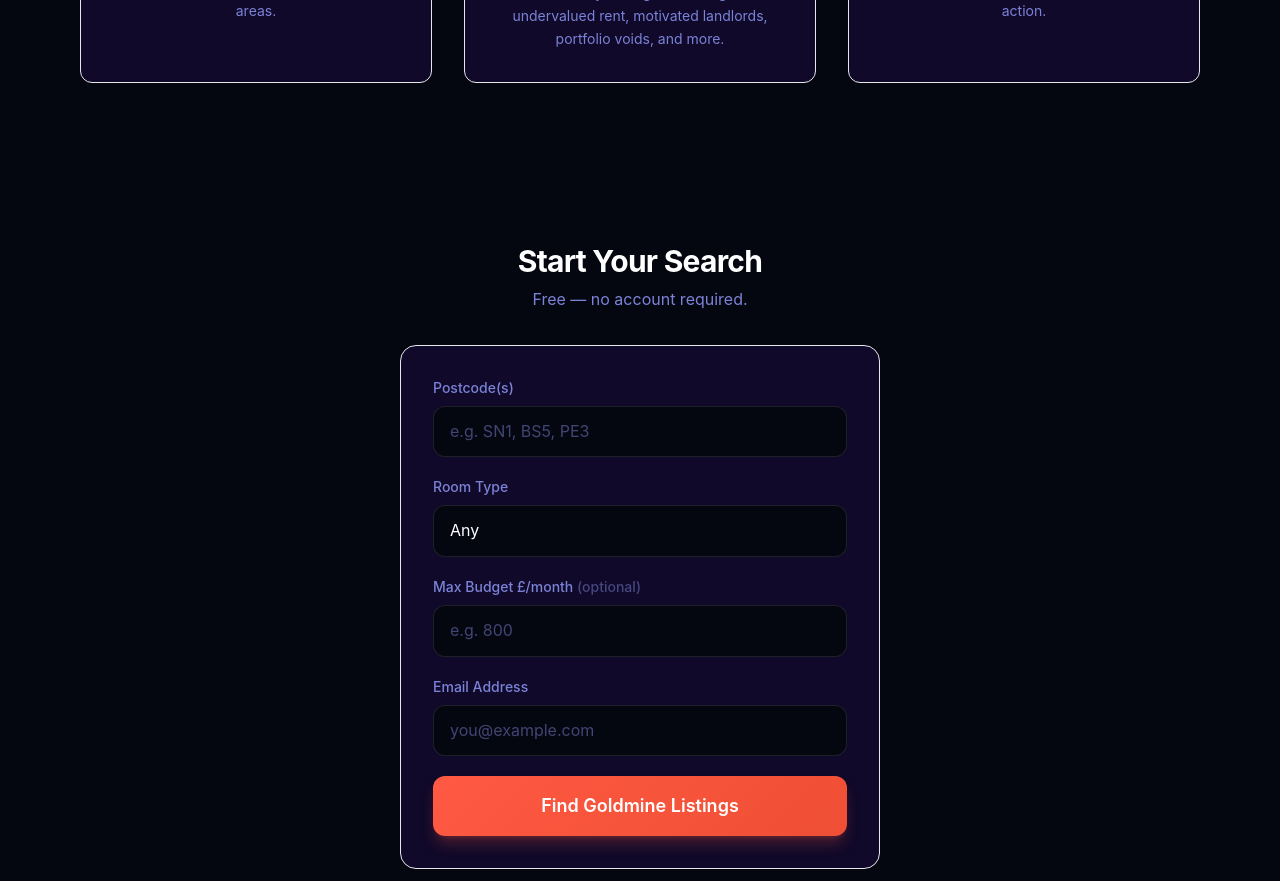
Test: GoldmineFinder — Section B: Form Validation Errors › shows inline error when email is invalid format
The width and height of the screenshot is (1280, 881).
(page scrolled)
In the field with placeholder "e.g. SN1, BS5, PE3": (640, 432) x1=433 y1=406 x2=847 y2=457, type "SN1"
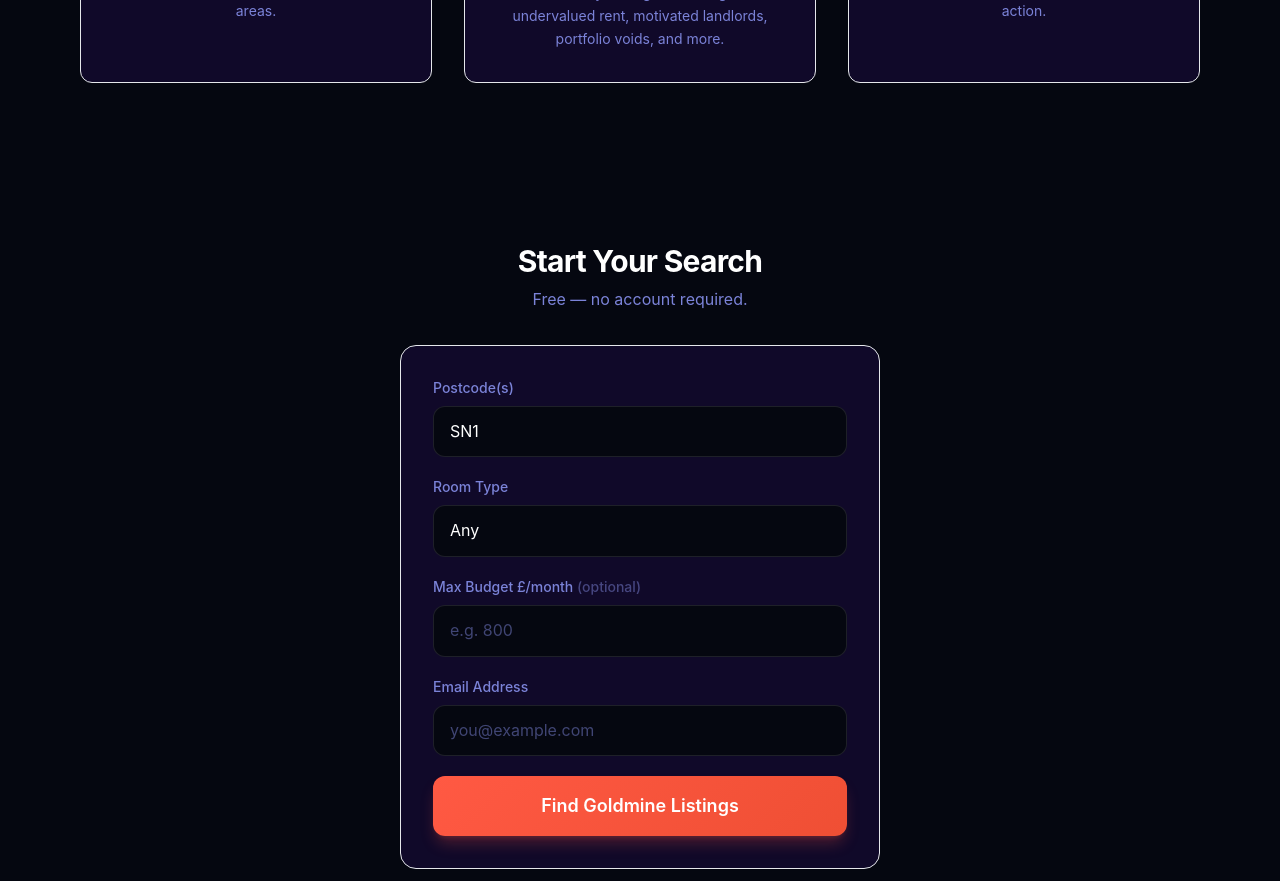
In the field with placeholder "you@example.com": (640, 730) x1=433 y1=705 x2=847 y2=756, type "not-an-email"
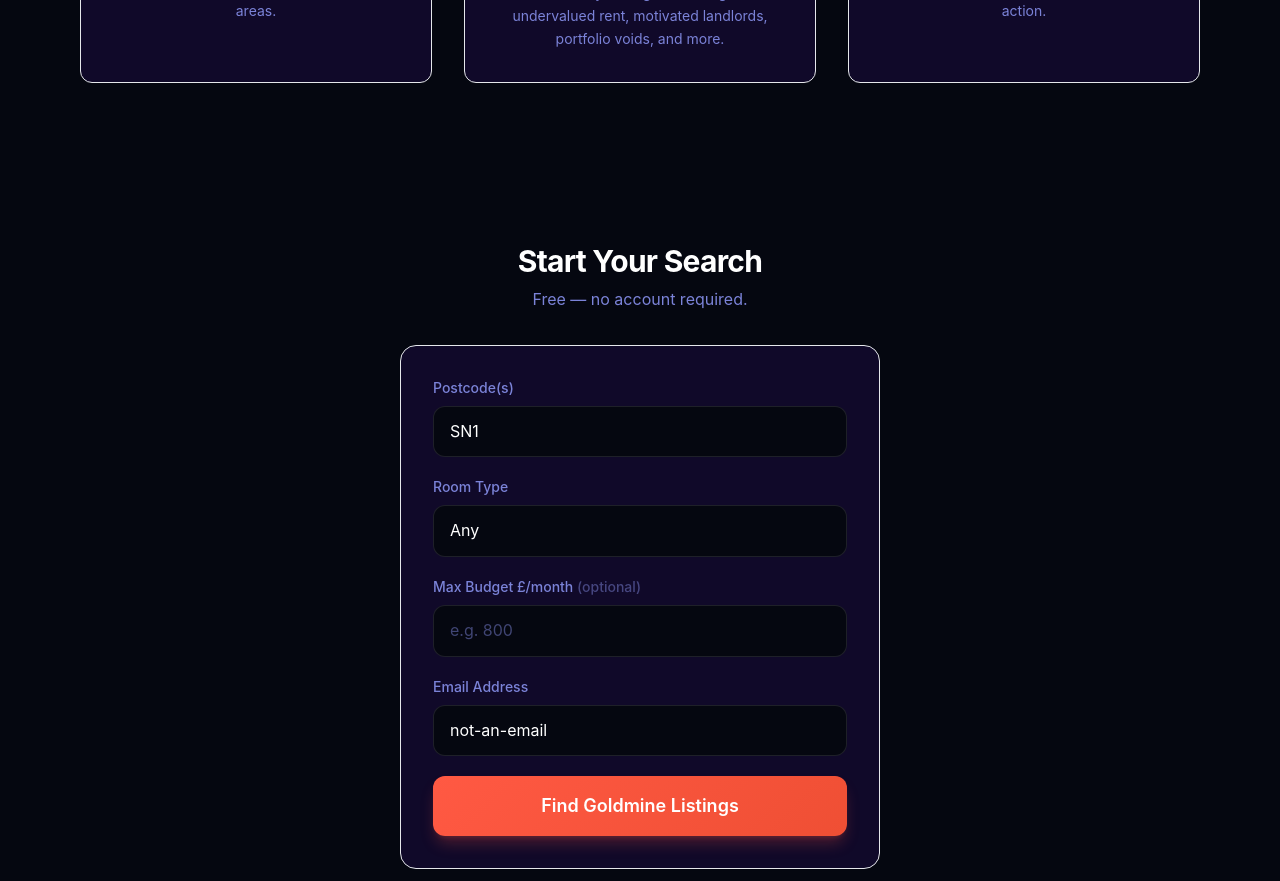
Click the button "Find Goldmine Listings": (640, 806) x1=433 y1=776 x2=847 y2=836
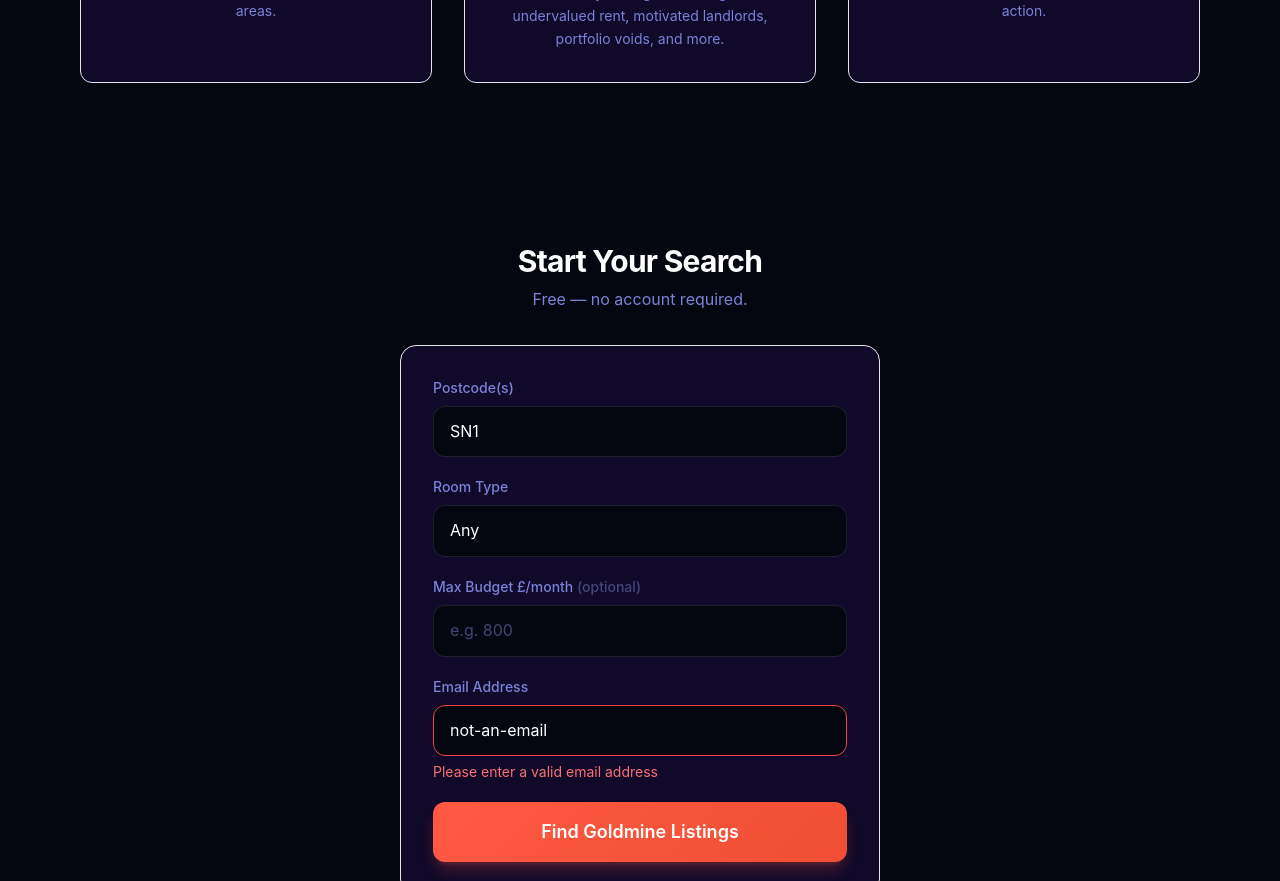
Expected: the text "Please enter a valid email address" is shown, x1=433 y1=763 x2=658 y2=780
